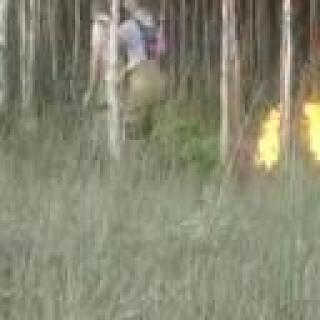fire: (303, 36, 320, 161), (257, 99, 281, 175)
